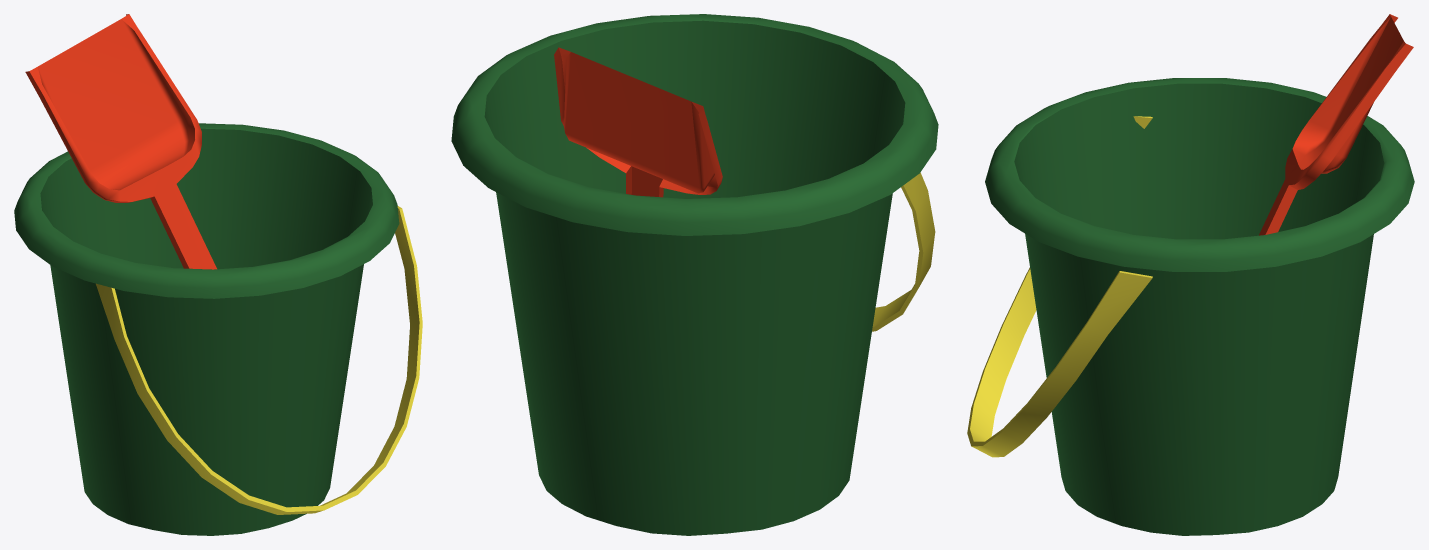
Rendered from secchiello_LOD1.fbx.
The picture shows the model from 3 angles, left to right: view 1: azimuth 30°, elevation 25°; view 2: azimuth 150°, elevation 25°; view 3: azimuth 270°, elevation 25°; orthographic projection. The views are drawn at different scales.
Parts seen in each view (by area): view 1: Spade; view 2: Spade; view 3: Spade.
Part boxes in pixels (left/top/right/bottom): Spade: left=14, top=14, right=422, bottom=535; Spade: left=451, top=14, right=938, bottom=535; Spade: left=967, top=14, right=1414, bottom=535.
Size of the model in its own units: 126 by 144 by 132.
